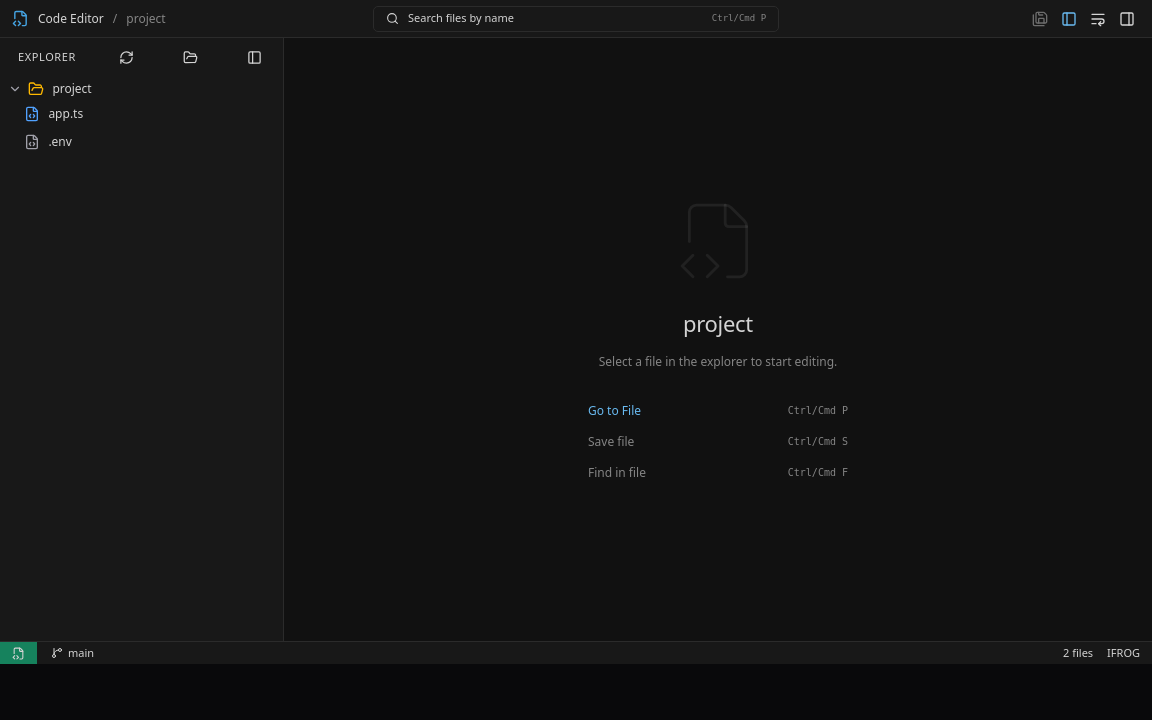
Test case: Code Editor local file list › refreshes local files and includes ignored files in quick open
Check: the list item ".env" is shown, box [24,133,72,150]
Click the button "Search files by name Ctrl/Cmd P".
click(461, 18)  # box [373,6,779,32]
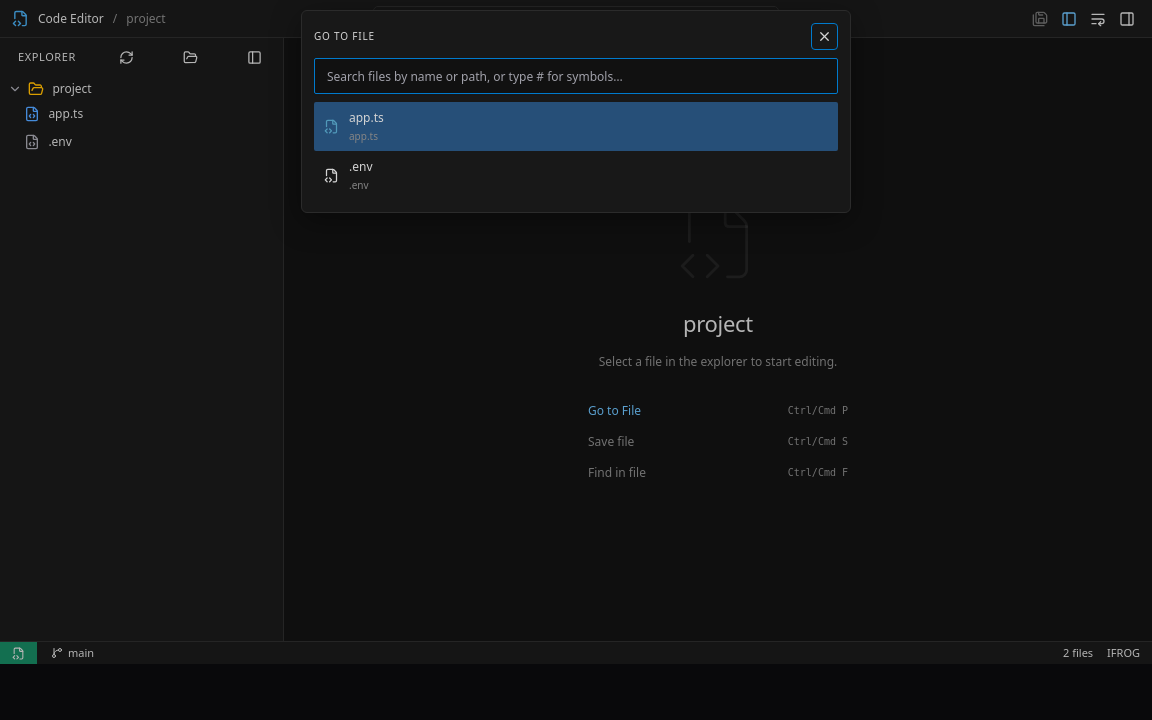
Type ".env" into the field named "Search project files".
click(576, 76); type(".env")  # box [314,58,838,94]
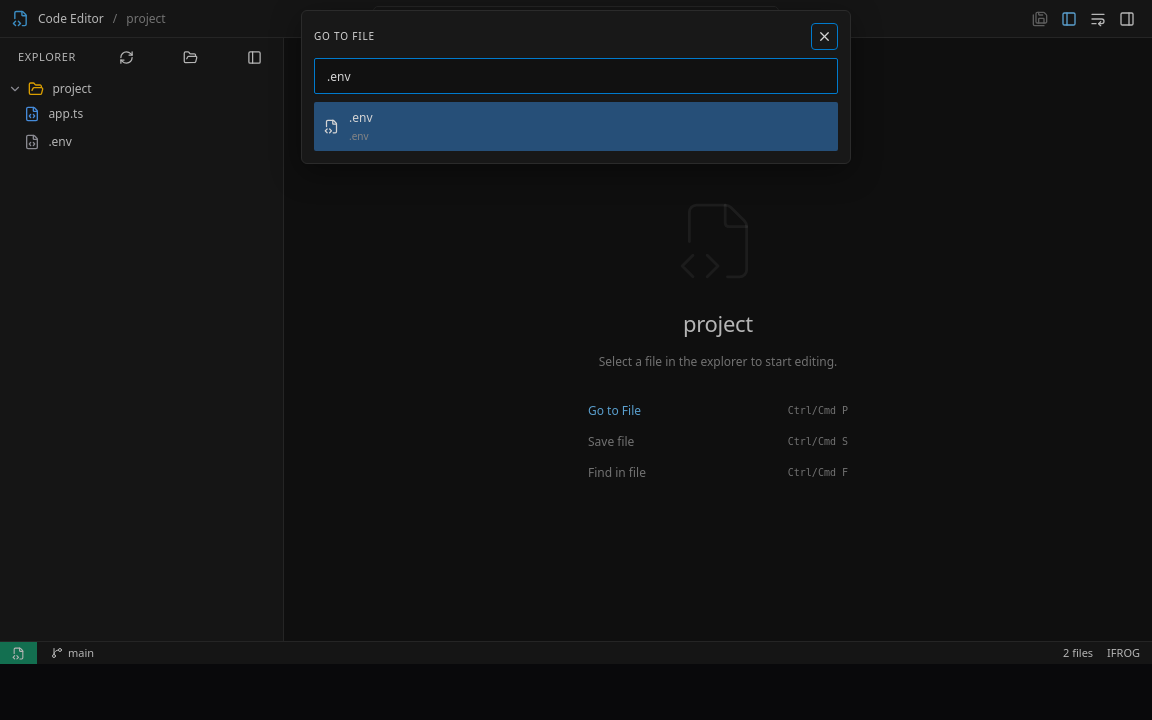
Press Enter in the field named "Search project files", box [314,58,838,94]
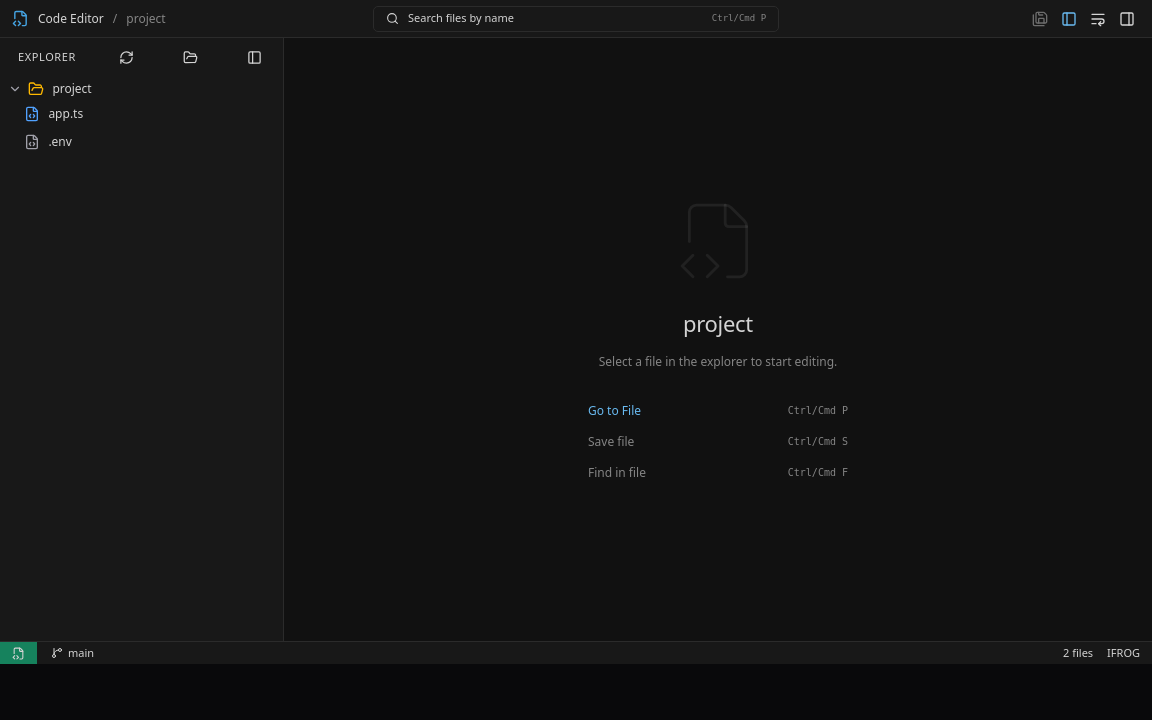
Click the button named "Refresh local files".
click(126, 57)  # box [113,44,140,70]
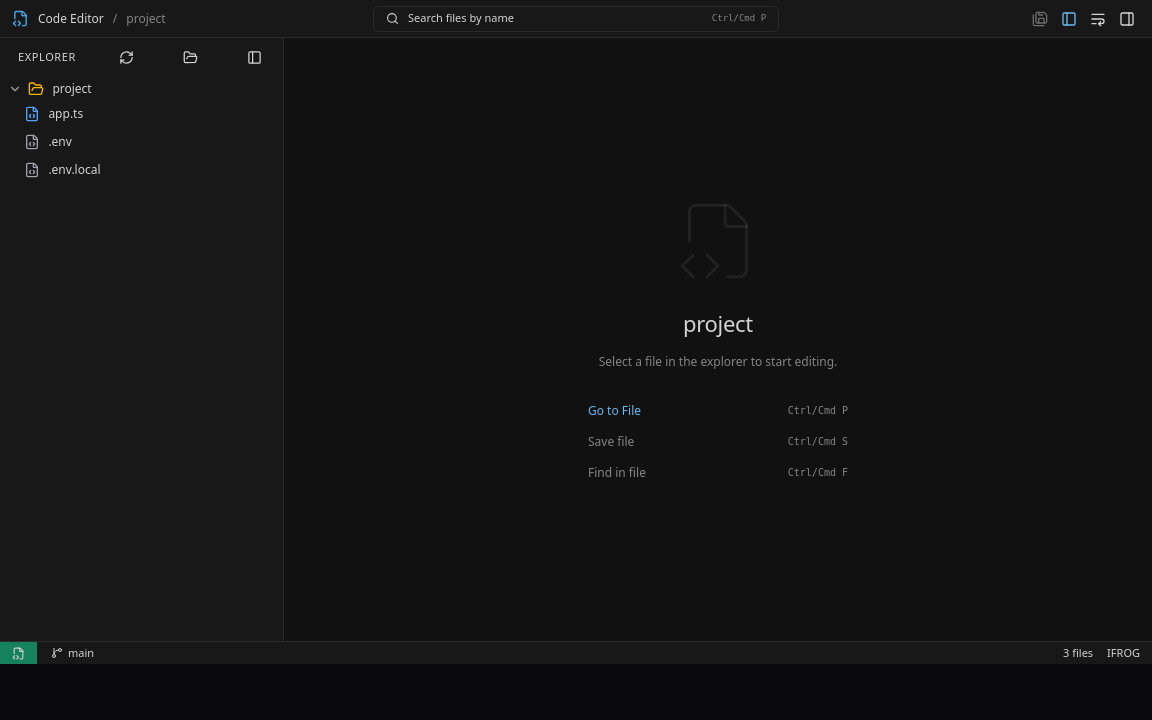
Check: the list item ".env.local" is shown, box [24,161,101,178]
